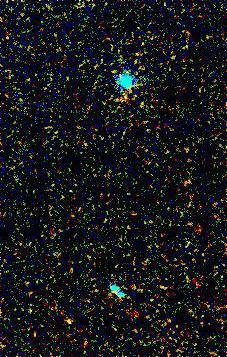star: (54, 309, 84, 339)
